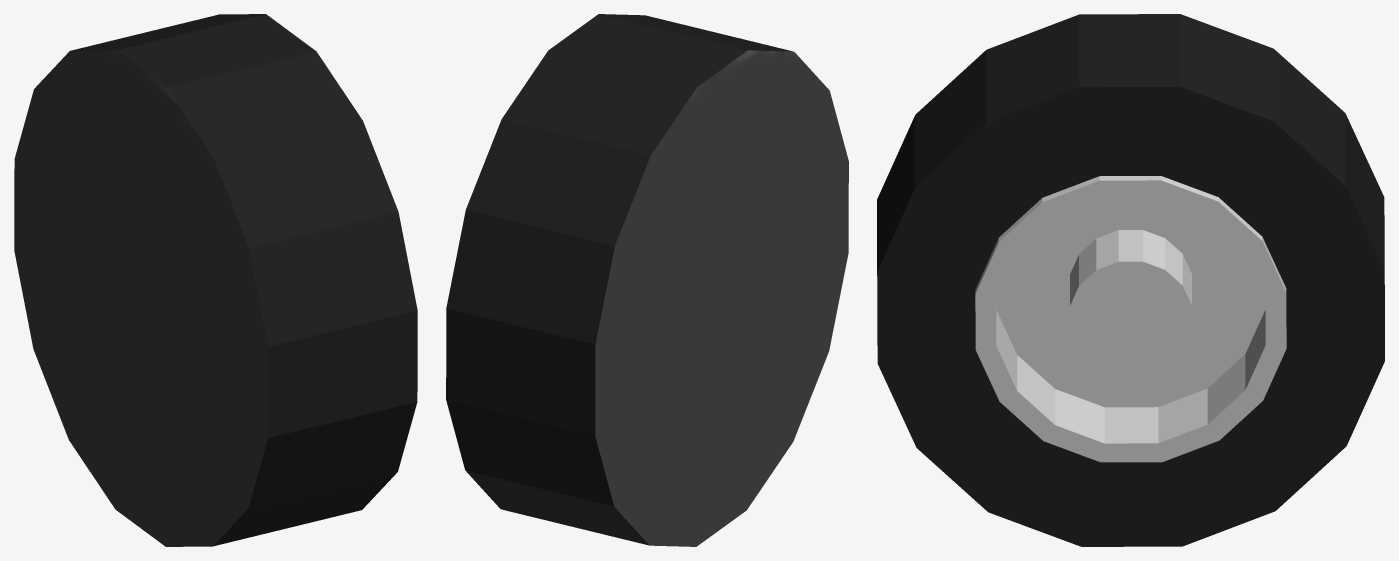
Rendered from VehicleTyreBack.fbx.
The picture shows the model from 3 angles, left to right: view 1: azimuth 30°, elevation 25°; view 2: azimuth 150°, elevation 25°; view 3: azimuth 270°, elevation 25°; orthographic projection.
Parts seen in each view (by area): view 1: VehicleTyreBack; view 2: VehicleTyreBack; view 3: VehicleTyreBack.
Part boxes in pixels (left/top/right/bottom): VehicleTyreBack: left=14, top=14, right=417, bottom=546; VehicleTyreBack: left=446, top=14, right=848, bottom=546; VehicleTyreBack: left=877, top=14, right=1384, bottom=546.
Bounding box in the file's own units: 41.4 × 115 × 115.
